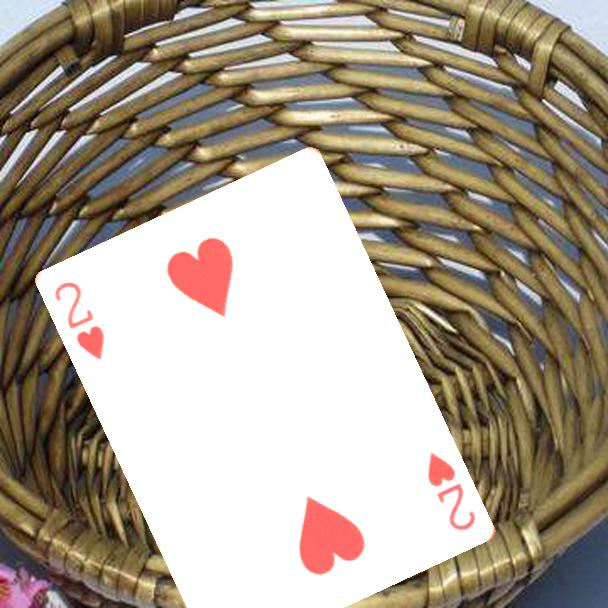h02: (51, 278, 109, 364), (424, 448, 480, 534)
